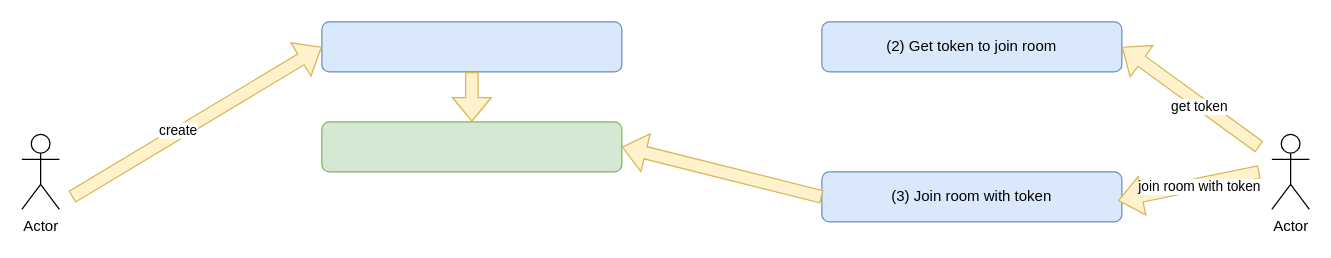
This 1331x258 diagram has some shape labels left out. Here are the shapes that lost their labels. From the top down, the centre of each, then its label:
point 471,46: (1) Create Room
point 471,146: room
